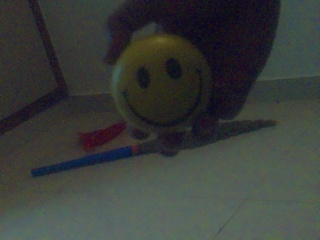ball: (111, 32, 216, 136)
